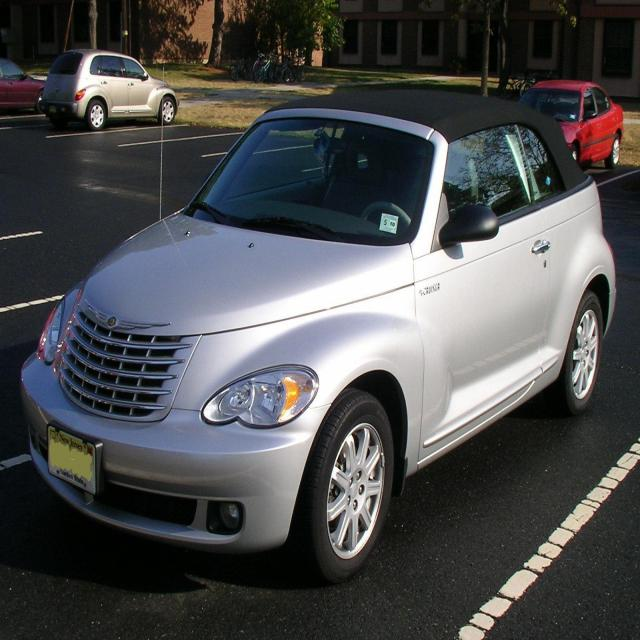car: (16, 94, 620, 580), (41, 44, 182, 128)
